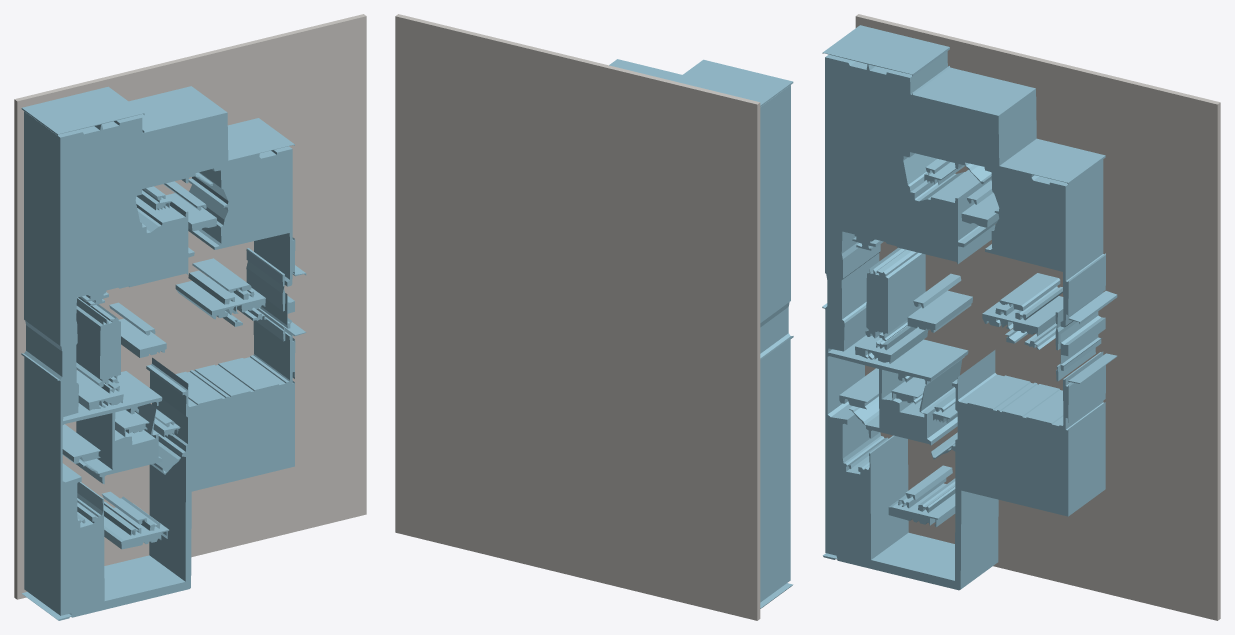
3 renders of one model, left to right at view 1: azimuth 30°, elevation 25°; view 2: azimuth 150°, elevation 25°; view 3: azimuth 330°, elevation 25°, orthographic. The views are drawn at different scales.
Parts seen in each view (by area): view 1: world; view 2: world; view 3: world.
Boxes of the visible parts, x1,y1,x2,y2 form: world: [14, 14, 366, 620]; world: [395, 14, 793, 620]; world: [822, 14, 1220, 620].
Bounding box in the file's own units: 10.23 × 13.94 × 1.98.
